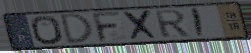D: (59, 12, 95, 46)
F: (90, 10, 123, 44)
I: (192, 7, 206, 38)
O: (29, 14, 65, 46)
R: (153, 9, 192, 39)
X: (122, 9, 161, 42)
